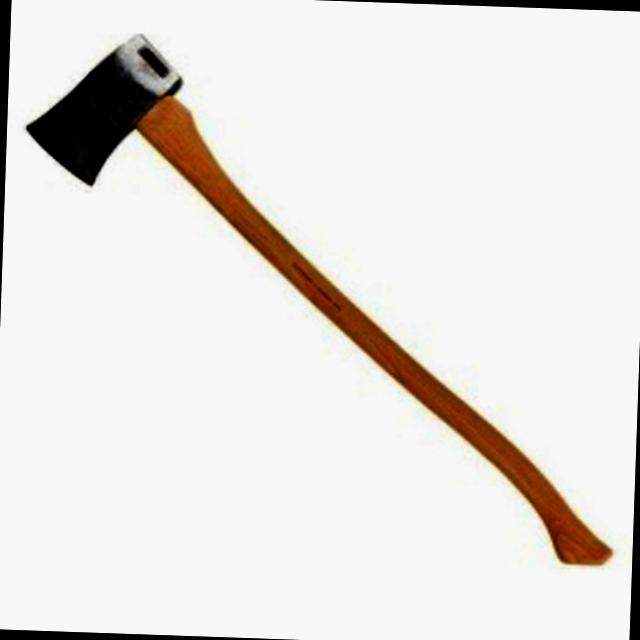ax: (12, 26, 634, 572)
